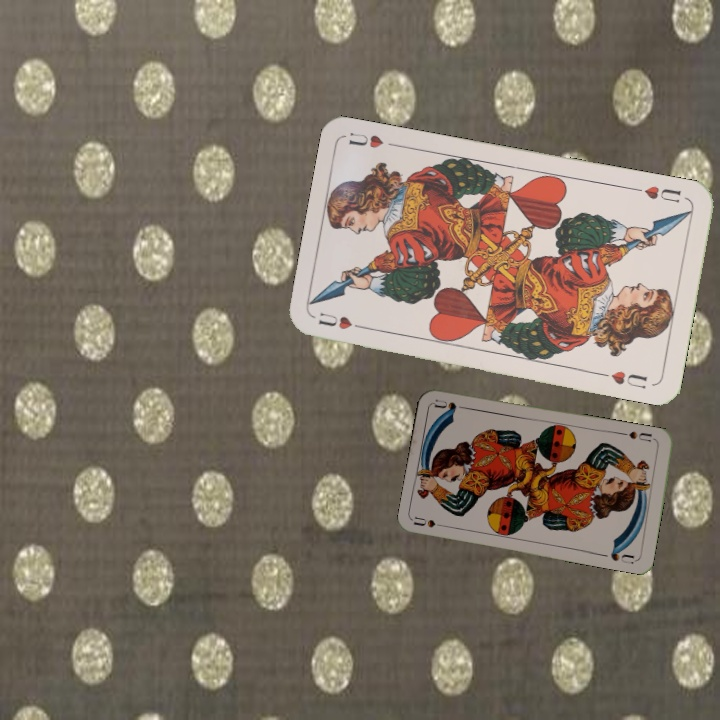HU: (314, 308, 371, 333), (640, 181, 684, 206)
SU: (411, 513, 452, 530), (625, 427, 654, 444)
